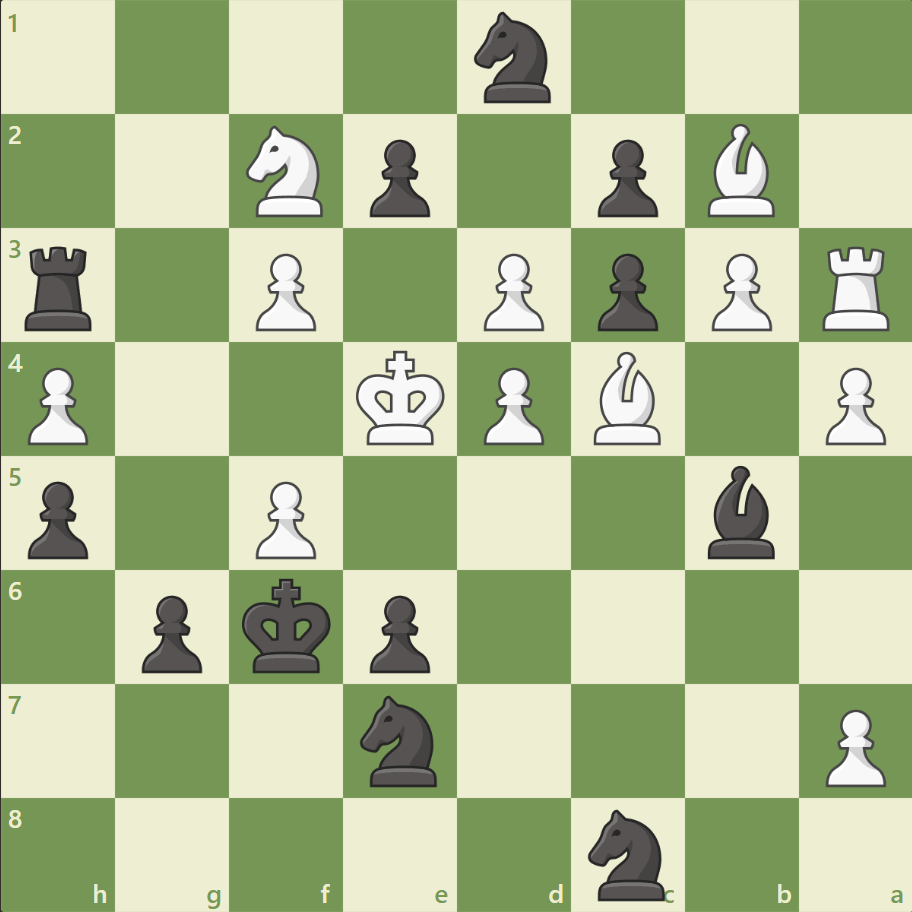B: (585, 347, 669, 449), (698, 120, 782, 222)
K: (351, 344, 451, 452)
N: (238, 121, 335, 223)
P: (247, 473, 322, 564), (474, 359, 549, 450), (20, 359, 95, 450), (701, 246, 776, 337), (474, 246, 549, 337), (247, 246, 322, 337), (815, 700, 889, 791), (815, 359, 889, 450)
R: (814, 239, 897, 336)
b: (698, 460, 782, 563)
k: (238, 571, 338, 679)
n: (351, 688, 449, 791), (465, 7, 562, 110), (579, 802, 676, 904)
p: (133, 586, 208, 677), (20, 473, 95, 564), (361, 586, 435, 677), (588, 246, 662, 337), (588, 132, 662, 223), (361, 132, 435, 223)
r: (19, 239, 102, 336)
